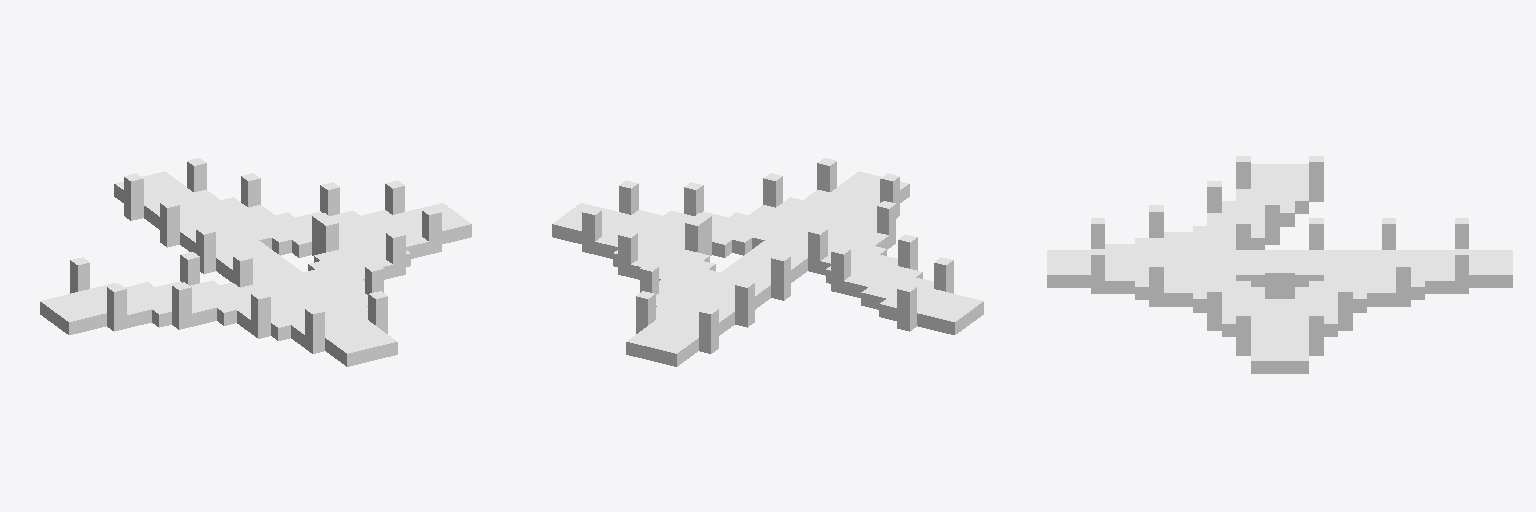
Rendered from crossroad5.obj.
The picture shows the model from 3 angles: view 1: azimuth 30°, elevation 25°; view 2: azimuth 150°, elevation 25°; view 3: azimuth 270°, elevation 25°; orthographic projection.
Parts seen in each view (by area): view 1: object 1; view 2: object 1; view 3: object 1.
Part boxes in pixels (x1,y1,x2,y2): object 1: (40,158,471,366); object 1: (552,158,983,366); object 1: (1047,156,1512,373).
Bounding box in the file's own units: 3.2 × 0.3 × 3.2.